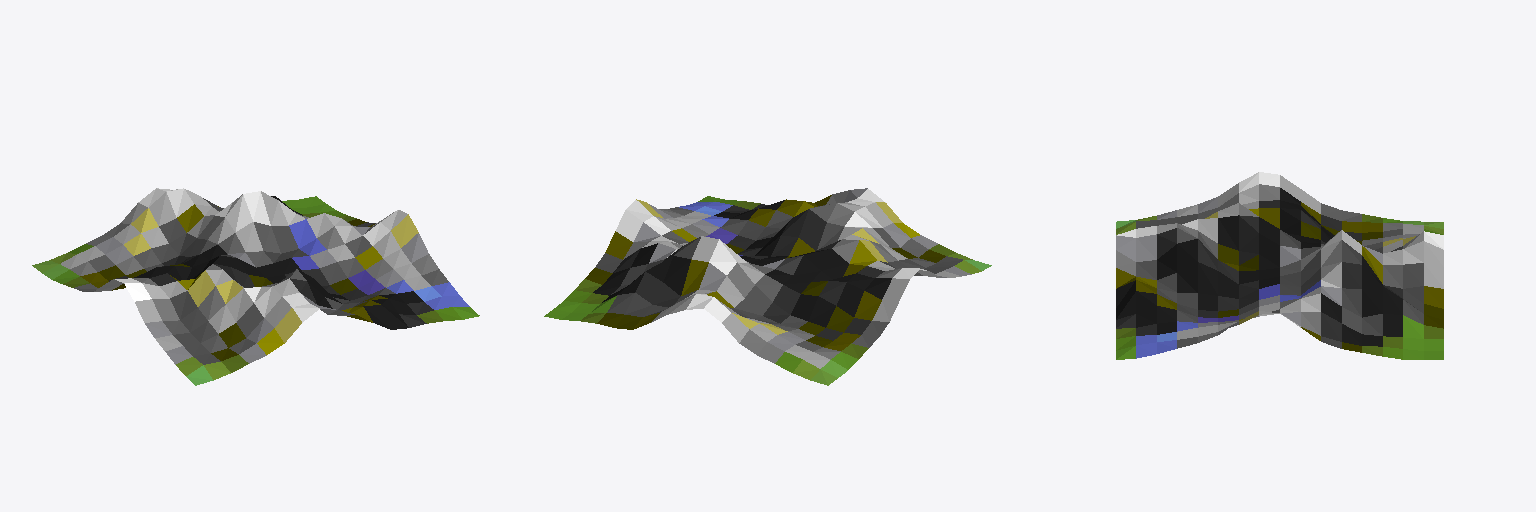
3 renders of one model, left to right at view 1: azimuth 30°, elevation 25°; view 2: azimuth 150°, elevation 25°; view 3: azimuth 270°, elevation 25°, orthographic.
Parts seen in each view (by area): view 1: mountains15; view 2: mountains15; view 3: mountains15.
Part boxes in pixels (x1,y1,x2,y2): mountains15: (32, 188, 479, 385); mountains15: (544, 188, 991, 385); mountains15: (1116, 172, 1443, 359).
Size of the model in its own units: 1 by 0.2352 by 1.
Materials: 1 (1 with a texture image).